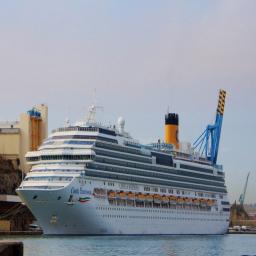cruises: (15, 86, 231, 238)
